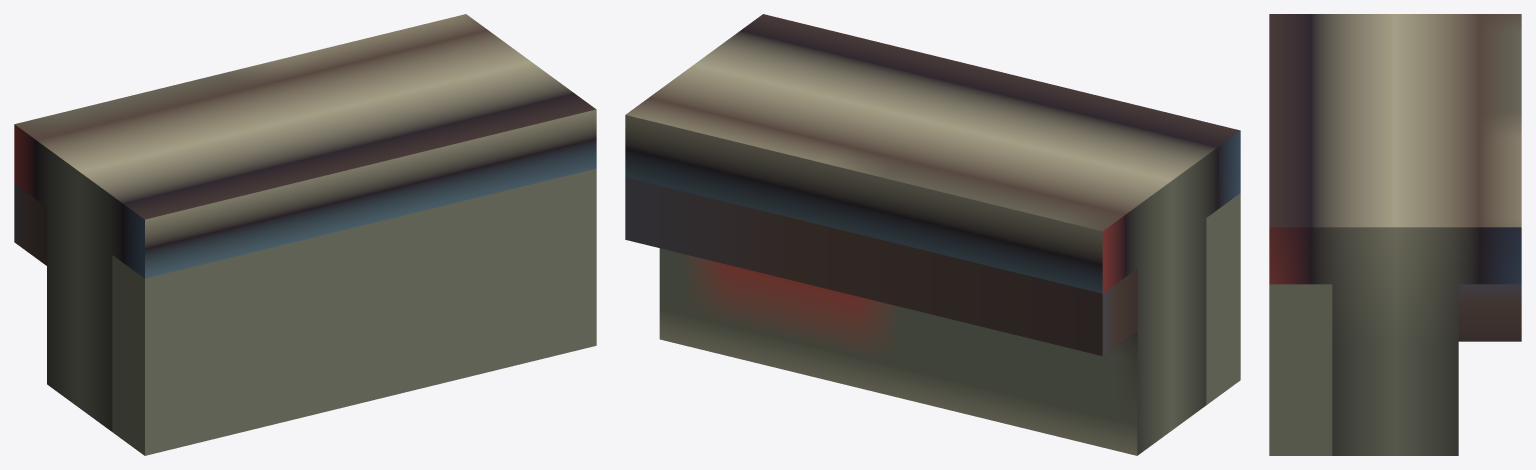
Rendered from casa3_cantonada_centre_dalt.fbx.
3 renders of one model, left to right at view 1: azimuth 30°, elevation 25°; view 2: azimuth 150°, elevation 25°; view 3: azimuth 270°, elevation 25°, orthographic. The views are drawn at different scales.
Parts seen in each view (by area): view 1: Wall1.036; view 2: Wall1.036; view 3: Wall1.036.
Part boxes in pixels (left/top/right/bottom): Wall1.036: left=14, top=14, right=596, bottom=455; Wall1.036: left=625, top=14, right=1240, bottom=455; Wall1.036: left=1269, top=14, right=1521, bottom=455.
Size of the model in its own units: 200 by 100 by 100.
